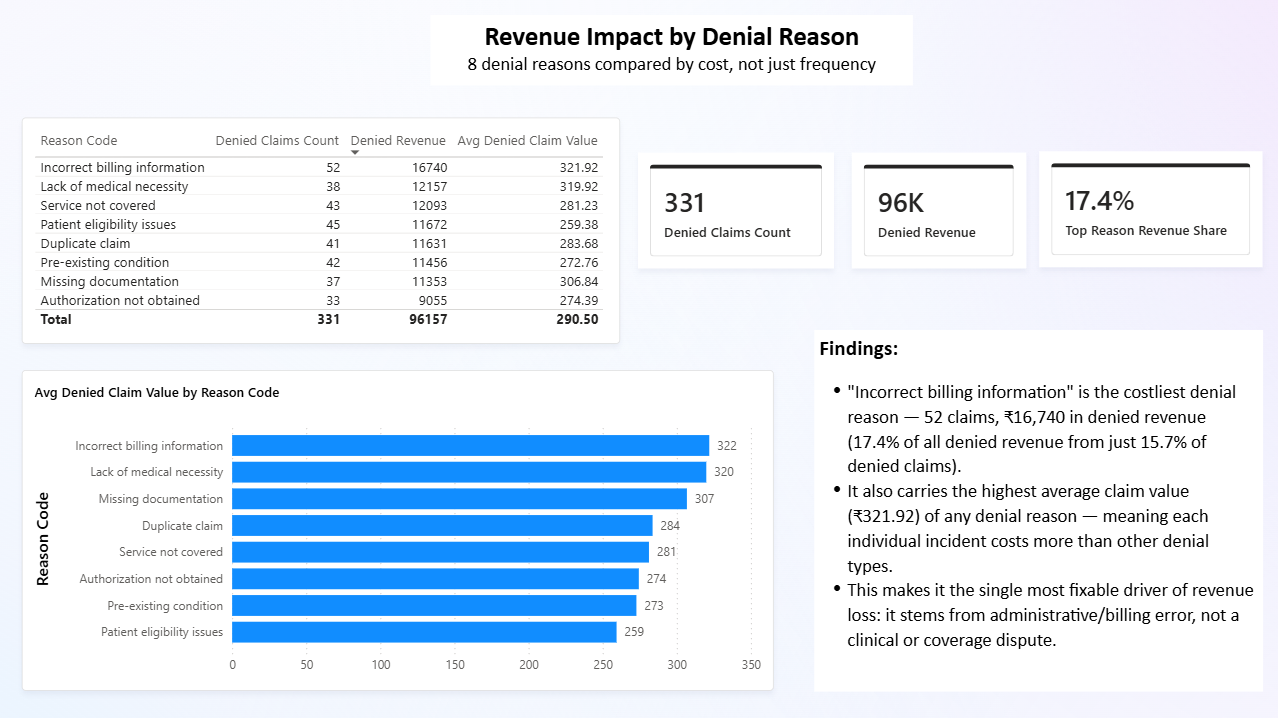

The page's visual inventory and layout, read from the dashboard file:
{"tool":"powerbi","page":{"name":"Page 2","canvas":[1280,720],"ordinal":1},"visuals":[{"type":"textbox","box":[432.5,15,482.5,70],"z":0},{"type":"tableEx","fields":{"Values":["Dim_ReasonCode.Reason Code","Claims.Denied Claims Count","Claims.Denied Revenue","Claims.Avg Denied Claim Value"]},"box":[23.8,117.5,598.8,226.2],"z":1000},{"type":"clusteredBarChart","fields":{"Category":["Dim_ReasonCode.Reason Code"],"Y":["Claims.Avg Denied Claim Value"]},"box":[23.8,370,752.3,320.9],"z":2000},{"type":"textbox","box":[816.2,330,448.8,361.2],"z":3000},{"type":"cardVisual","fields":{"Data":["Claims.Denied Claims Count"]},"box":[640,152.5,196.2,116.2],"z":4000},{"type":"cardVisual","fields":{"Data":["Claims.Denied Revenue"]},"box":[853.8,152.5,174.9,116.2],"z":5000},{"type":"cardVisual","fields":{"Data":["Claims.Top Reason Revenue Share"]},"box":[1041.2,151.2,223.8,116.2],"z":6000}]}

Visuals, with their boxes in screenshot pixels (x1, y1, x2, y2), scaled from the page's 1280x720 canvas onto the 1278x718 screenshot:
textbox: 432 15 914 85
tableEx - Dim_ReasonCode.Reason Code x Claims.Denied Claims Count: 24 117 622 343
clusteredBarChart - Dim_ReasonCode.Reason Code x Claims.Avg Denied Claim Value: 24 369 775 689
textbox: 815 329 1263 689
cardVisual - Claims.Denied Claims Count: 639 152 835 268
cardVisual - Claims.Denied Revenue: 852 152 1027 268
cardVisual - Claims.Top Reason Revenue Share: 1040 151 1263 267
